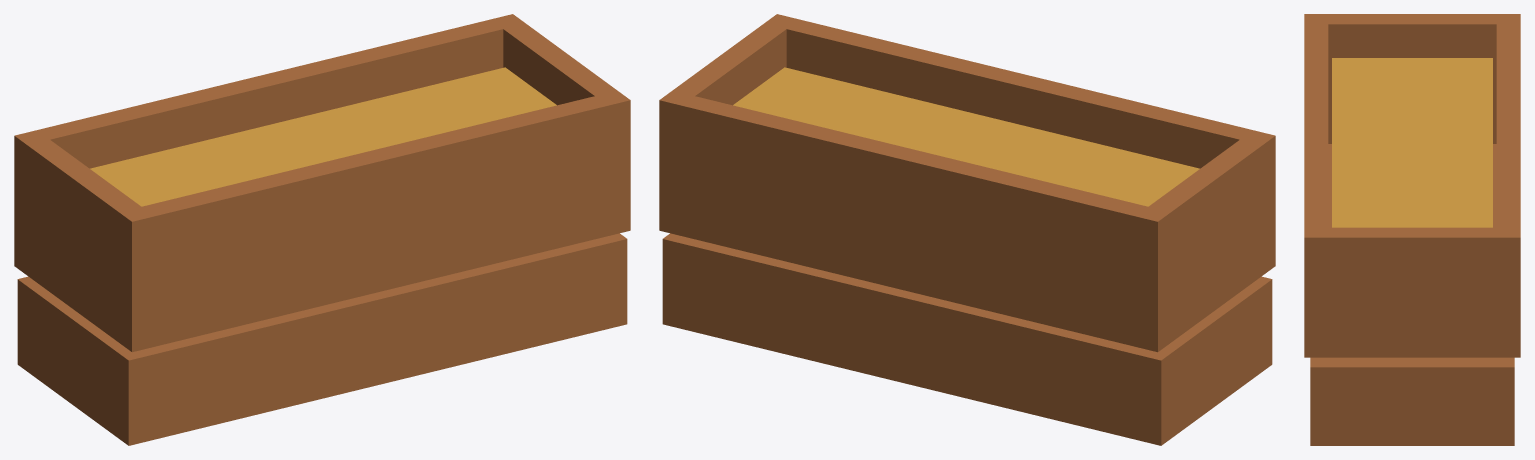
3 renders of one model, left to right at view 1: azimuth 30°, elevation 25°; view 2: azimuth 150°, elevation 25°; view 3: azimuth 270°, elevation 25°, orthographic. The views are drawn at different scales.
Parts seen in each view (by area): view 1: root_pal_woodWarm, root_pal_mustard; view 2: root_pal_woodWarm, root_pal_mustard; view 3: root_pal_woodWarm, root_pal_mustard.
Part boxes in pixels (<box>): root_pal_woodWarm: <box>14,14,630,445</box>; root_pal_mustard: <box>90,67,556,206</box>; root_pal_woodWarm: <box>659,14,1275,445</box>; root_pal_mustard: <box>733,67,1199,206</box>; root_pal_woodWarm: <box>1304,14,1520,445</box>; root_pal_mustard: <box>1332,58,1492,227</box>.
Bounding box in the file's own units: 2.2 × 0.955 × 0.9.
